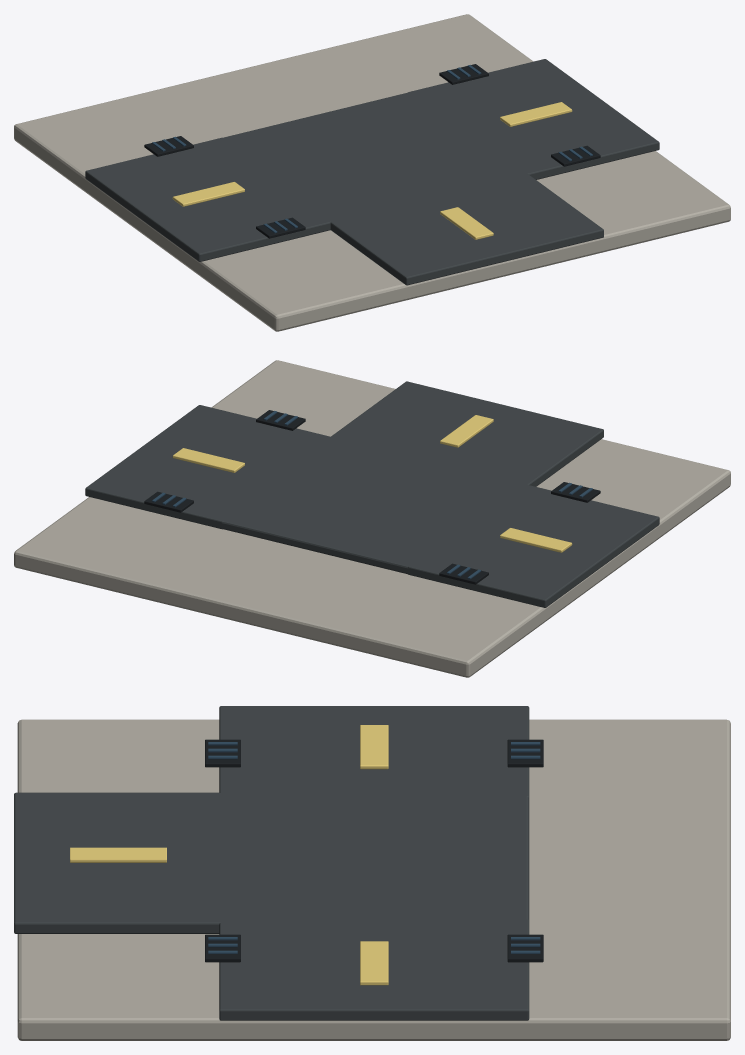
Rendered from ROAD_LOCAL_1x1_T.glb.
The picture shows the model from 3 angles, top to bottom: view 1: azimuth 30°, elevation 25°; view 2: azimuth 150°, elevation 25°; view 3: azimuth 270°, elevation 25°; orthographic projection. The views are drawn at different scales.
Visible parts, largest first — view 1: ROAD_LOCAL_1x1_T_Visual; view 2: ROAD_LOCAL_1x1_T_Visual; view 3: ROAD_LOCAL_1x1_T_Visual.
Boxes of the visible parts, bbox=[...] form: ROAD_LOCAL_1x1_T_Visual: bbox=[14, 14, 730, 331]; ROAD_LOCAL_1x1_T_Visual: bbox=[14, 360, 730, 677]; ROAD_LOCAL_1x1_T_Visual: bbox=[14, 706, 730, 1040].
Size of what is drawn, in the model's own units: 2 by 0.137 by 1.99.
